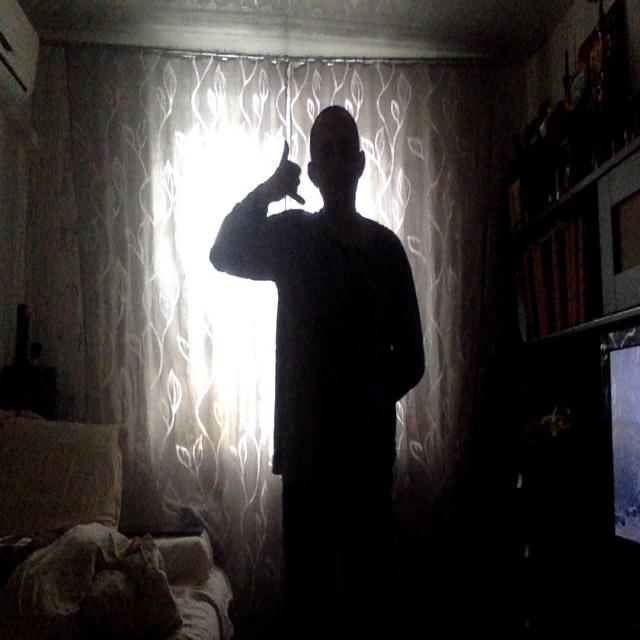call: (272, 136, 307, 208)
